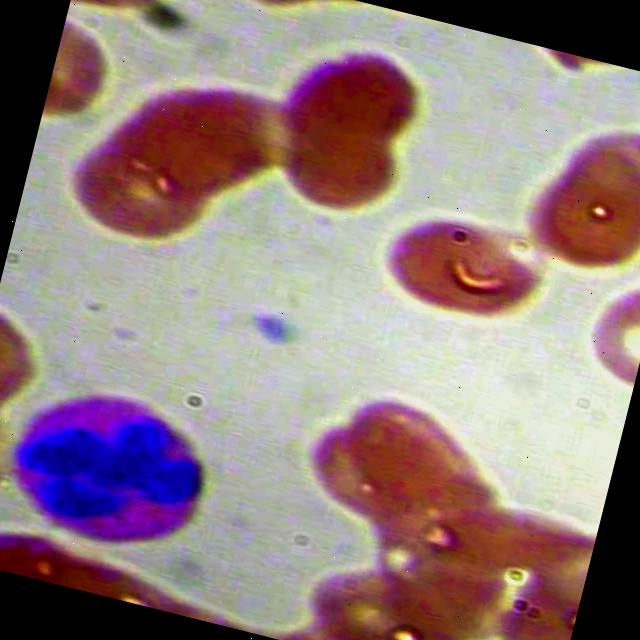Platelets: (238, 298, 300, 362)
RBC: (368, 195, 552, 339), (51, 120, 234, 264), (515, 103, 640, 289), (267, 29, 428, 171), (255, 106, 412, 227)
WBC: (0, 343, 247, 581)
